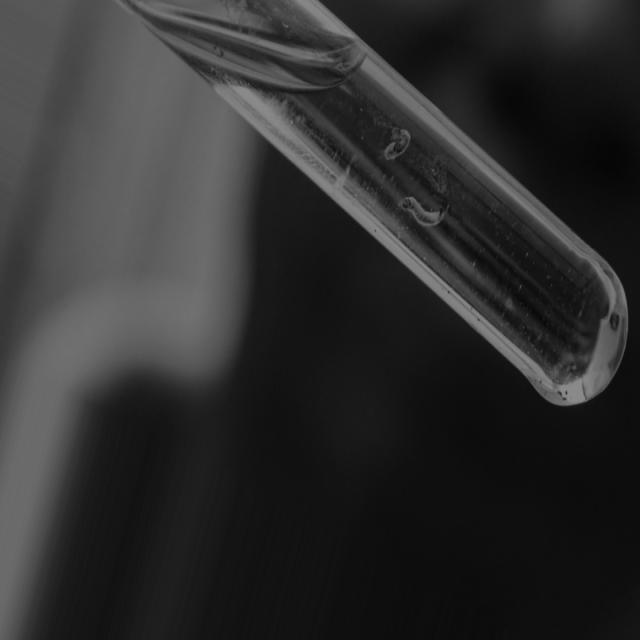larvas: (401, 199, 447, 225), (384, 129, 408, 159)
